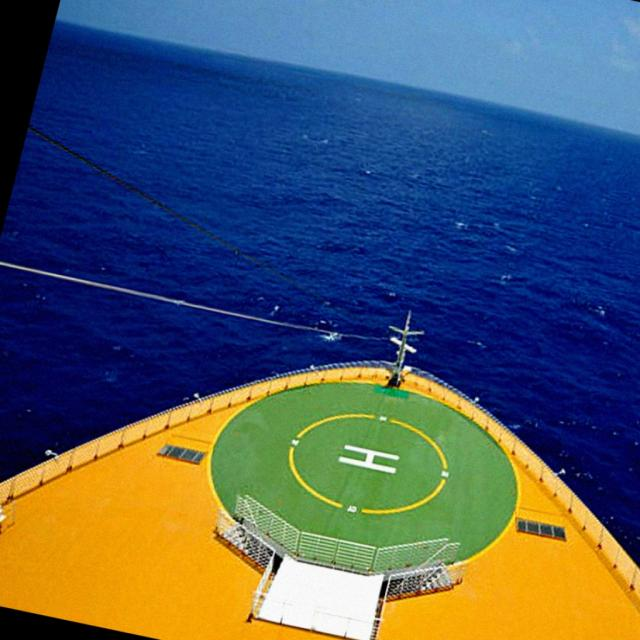helipad: (286, 409, 453, 516)
